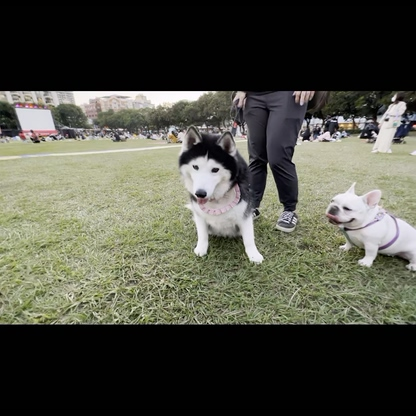husky: (174, 122, 271, 268)
